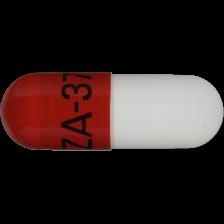64725-0036: (0, 0, 224, 224)
